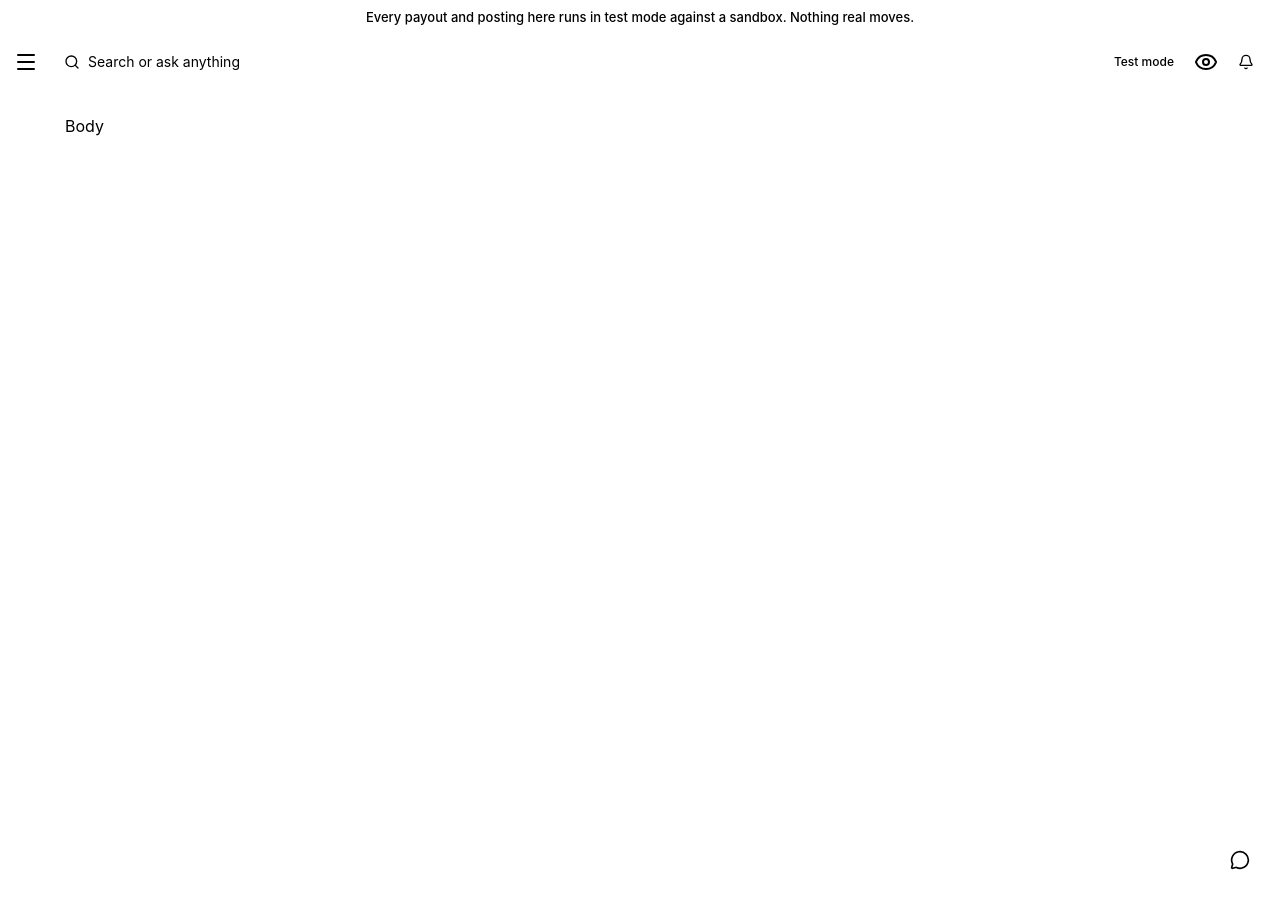
Test: the agent launcher › still shows with page focus off, with no chip for the page's record
The image size is (1280, 900).
Click the button named "Ask the agent" at (1240, 860), box [1216,836,1264,884]
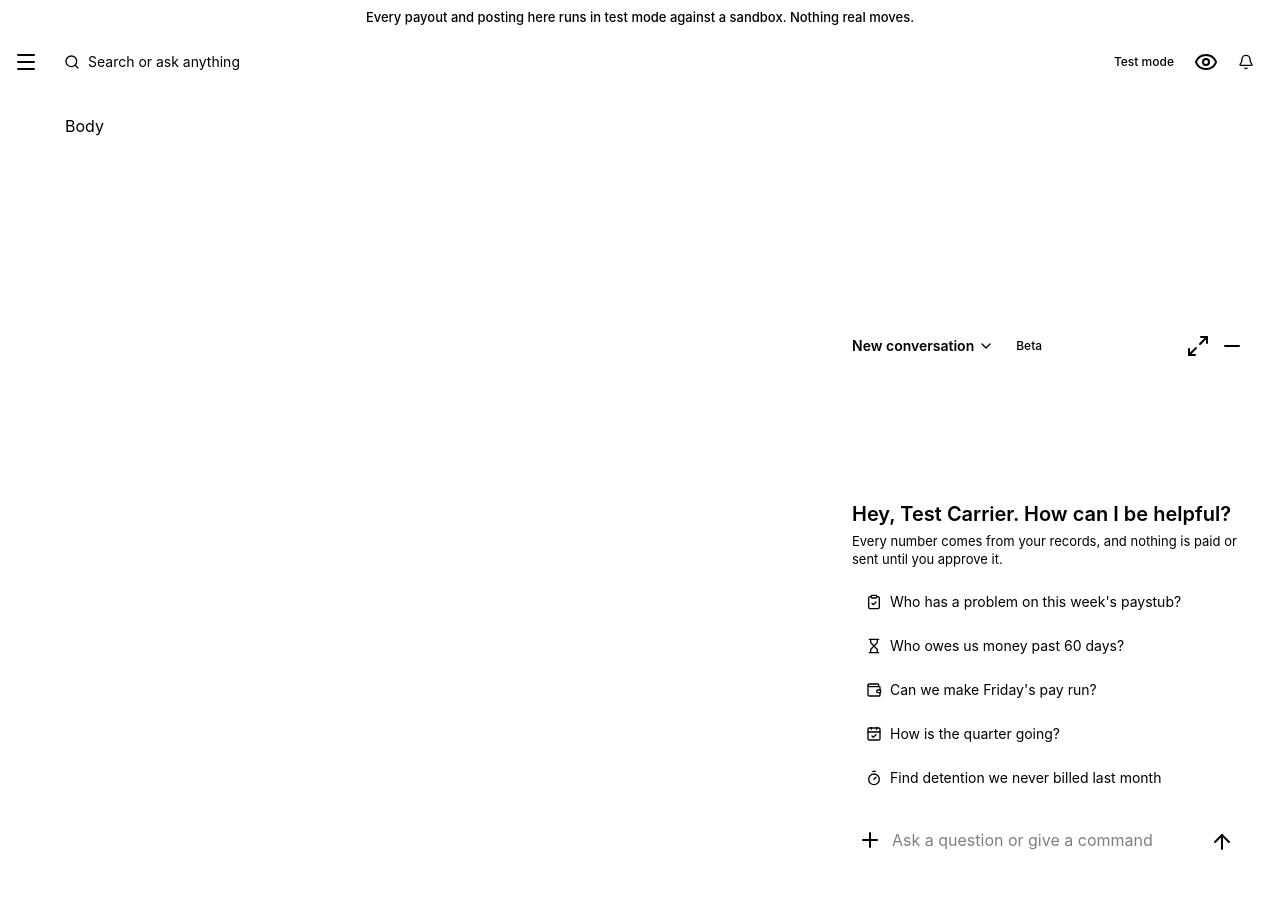
Expected: the text box named "Your question" is shown, [892,822,1200,858]
